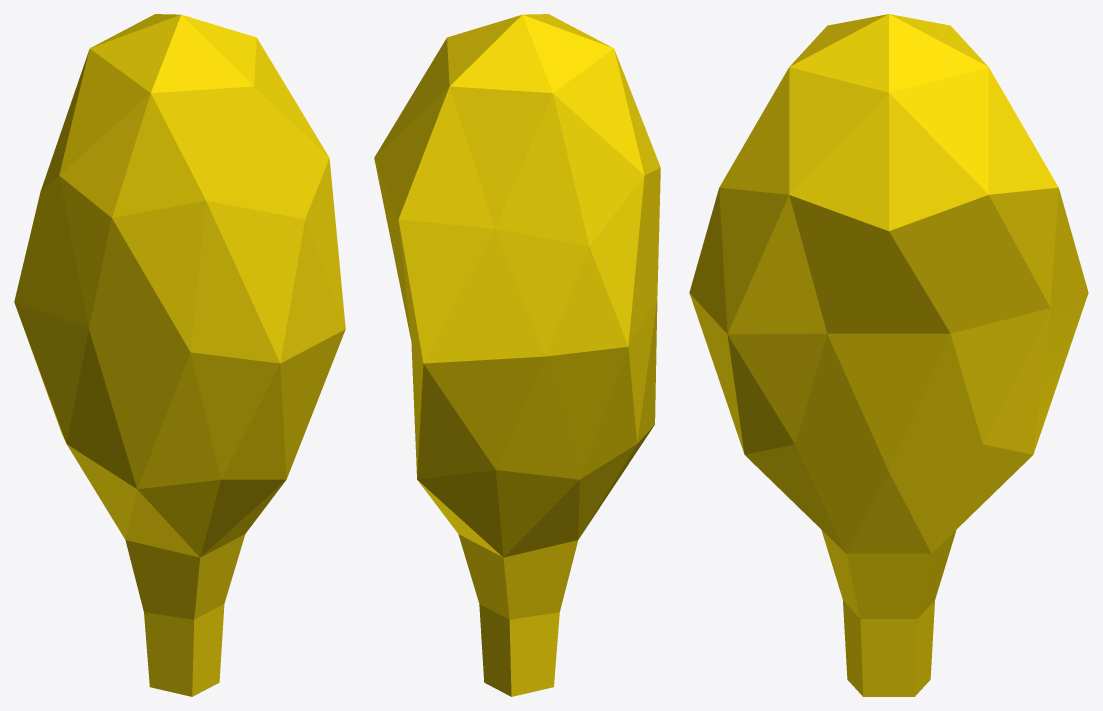
Rendered from item_balloon_smiley.glb.
The picture shows the model from 3 angles, left to right: view 1: azimuth 30°, elevation 25°; view 2: azimuth 150°, elevation 25°; view 3: azimuth 270°, elevation 25°; orthographic projection.
Visible parts, largest first — view 1: BalloonDeflated; view 2: BalloonDeflated; view 3: BalloonDeflated.
Boxes of the visible parts, x1,y1,x2,y2 form: BalloonDeflated: (14,14,345,696); BalloonDeflated: (374,14,660,696); BalloonDeflated: (689,14,1088,696).
Size of the model in its own units: 0.0305 by 0.0733 by 0.0395.
